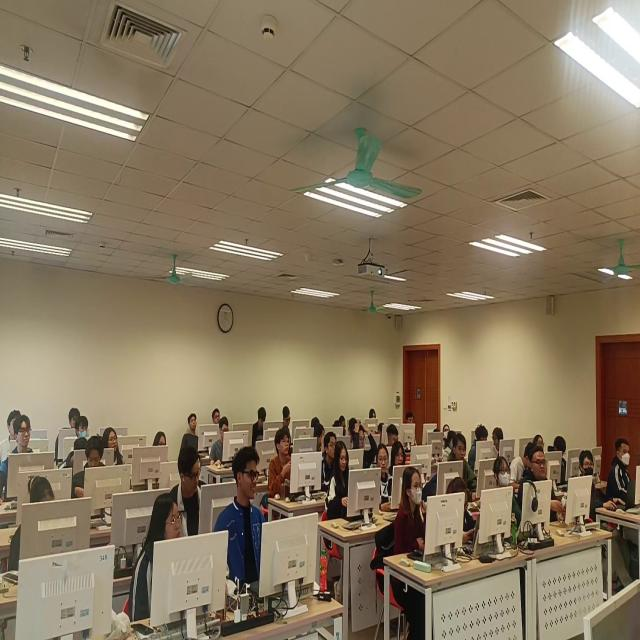raise_hand: (351, 418, 378, 468)
raise_head: (214, 445, 269, 589), (131, 490, 186, 627), (517, 447, 568, 530), (577, 447, 628, 516), (392, 465, 428, 558), (1, 412, 34, 508), (493, 453, 524, 534), (607, 436, 640, 510), (449, 429, 479, 501), (268, 428, 295, 499), (54, 404, 80, 465), (1, 408, 24, 466), (323, 431, 338, 494), (104, 427, 128, 464), (183, 411, 200, 449), (443, 429, 458, 463), (76, 415, 91, 441), (152, 429, 167, 451), (533, 433, 546, 454), (212, 403, 224, 425), (442, 422, 451, 436)
using_computer: (6, 475, 56, 573), (171, 440, 212, 535), (443, 475, 483, 560), (326, 437, 354, 523), (72, 433, 106, 501), (509, 439, 537, 483), (549, 435, 572, 487), (211, 414, 231, 473), (252, 404, 269, 449), (391, 440, 407, 475), (407, 409, 421, 448), (313, 422, 327, 456), (283, 401, 295, 439), (347, 416, 358, 447), (334, 414, 347, 439), (387, 422, 400, 447), (369, 406, 378, 424), (432, 426, 441, 442)
